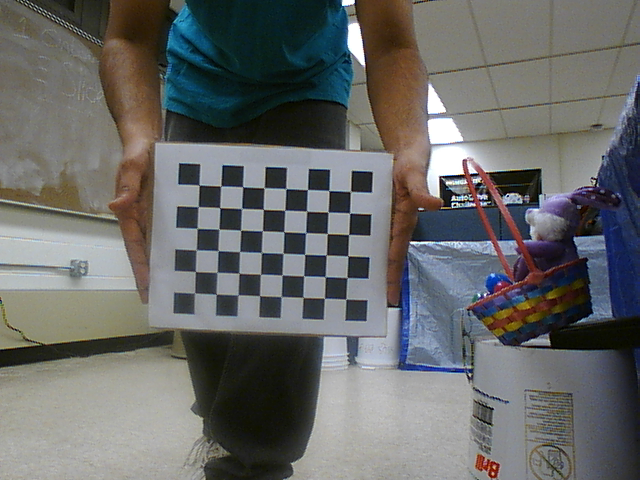bunny: (452, 150, 605, 348)
